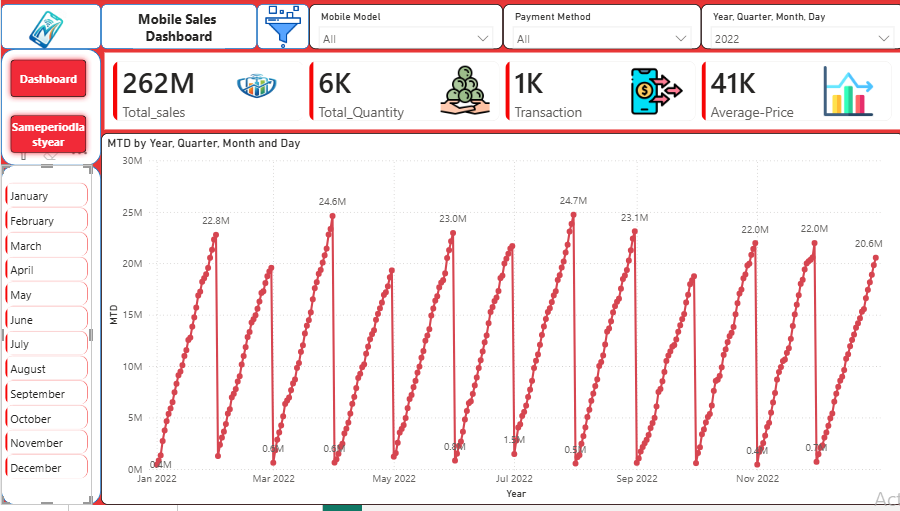

The dashboard page shown, as its layout file describes it:
{"tool":"powerbi","page":{"name":"MTD_Report","canvas":[1280,720],"ordinal":1},"visuals":[{"type":"shape","box":[0,9.9,141.7,63.8],"z":0},{"type":"shape","box":[0,73.3,141.7,165],"z":1000},{"type":"cardVisual","fields":{"Data":["Mobile_Sales_Data.Total_sales","Mobile_Sales_Data.Total_Quantity","Mobile_Sales_Data.Transaction","Mobile_Sales_Data.Average-Price"]},"box":[141.7,73.7,1138.1,119.1],"z":2000},{"type":"slicer","fields":{"Values":["Mobile_Sales_Data.Mobile Model"]},"box":[436.5,9.9,275,63.8],"z":3000},{"type":"slicer","fields":{"Values":["Mobile_Sales_Data.Payment Method"]},"box":[711.5,9.9,280.6,63.8],"z":4000},{"type":"slicer","fields":{"Values":["Custom_calender.Date.Variation.Date Hierarchy.Year","Custom_calender.Date.Variation.Date Hierarchy.Quarter","Custom_calender.Date.Variation.Date Hierarchy.Month","Custom_calender.Date.Variation.Date Hierarchy.Day"]},"box":[992.1,9.9,287.7,63.8],"z":5000},{"type":"shape","box":[362.8,9.9,73.7,63.8],"z":6000},{"type":"image","box":[362.8,11.3,73.7,62.4],"z":7000},{"type":"image","box":[289.1,96.4,147.4,73.7],"z":8000},{"type":"image","box":[1155.1,97.8,92.1,70.9],"z":9000},{"type":"image","box":[867.4,97.8,124.7,72.3],"z":10000},{"type":"image","box":[603.8,95,107.7,73.7],"z":11000},{"type":"shape","box":[141.7,9.9,221.1,63.8],"z":12000},{"type":"textbox","box":[187.1,12.8,130.4,59.5],"z":13000},{"type":"lineChart","fields":{"Category":["Custom_calender.Date.Variation.Date Hierarchy.Year","Custom_calender.Date.Variation.Date Hierarchy.Quarter","Custom_calender.Date.Variation.Date Hierarchy.Month","Custom_calender.Date.Variation.Date Hierarchy.Day"],"Y":["Mobile_Sales_Data.MTD"]},"box":[141.7,192.8,1138.1,527.2],"z":15000},{"type":"shape","box":[0,238.3,141.7,481.7],"z":16000},{"type":"advancedSlicerVisual","fields":{"Values":["Custom_calender.Date.Variation.Date Hierarchy.Month"]},"box":[0,238.1,129,481.9],"z":17000},{"type":"pageNavigator","box":[5.7,80.8,123.3,148.8],"z":18000},{"type":"image","box":[0,16,128,80],"z":19000}]}

Visuals, with their boxes in screenshot pixels (x1, y1, x2, y2), scaled from the page's 1280x720 canvas onto the 900x511 screenshot:
shape: locate(0, 7, 100, 52)
shape: locate(0, 52, 100, 169)
cardVisual - Mobile_Sales_Data.Total_sales x Mobile_Sales_Data.Total_Quantity: locate(100, 52, 899, 137)
slicer - Mobile_Sales_Data.Mobile Model: locate(307, 7, 500, 52)
slicer - Mobile_Sales_Data.Payment Method: locate(500, 7, 698, 52)
slicer - Custom_calender.Date.Variation.Date Hierarchy.Year x Custom_calender.Date.Variation.Date Hierarchy.Quarter: locate(698, 7, 899, 52)
shape: locate(255, 7, 307, 52)
image: locate(255, 8, 307, 52)
image: locate(203, 68, 307, 121)
image: locate(812, 69, 877, 120)
image: locate(610, 69, 698, 121)
image: locate(425, 67, 500, 120)
shape: locate(100, 7, 255, 52)
textbox: locate(132, 9, 223, 51)
lineChart - Custom_calender.Date.Variation.Date Hierarchy.Year x Custom_calender.Date.Variation.Date Hierarchy.Quarter: locate(100, 137, 899, 510)
shape: locate(0, 169, 100, 510)
advancedSlicerVisual - Custom_calender.Date.Variation.Date Hierarchy.Month: locate(0, 169, 91, 510)
pageNavigator: locate(4, 57, 91, 163)
image: locate(0, 11, 90, 68)
